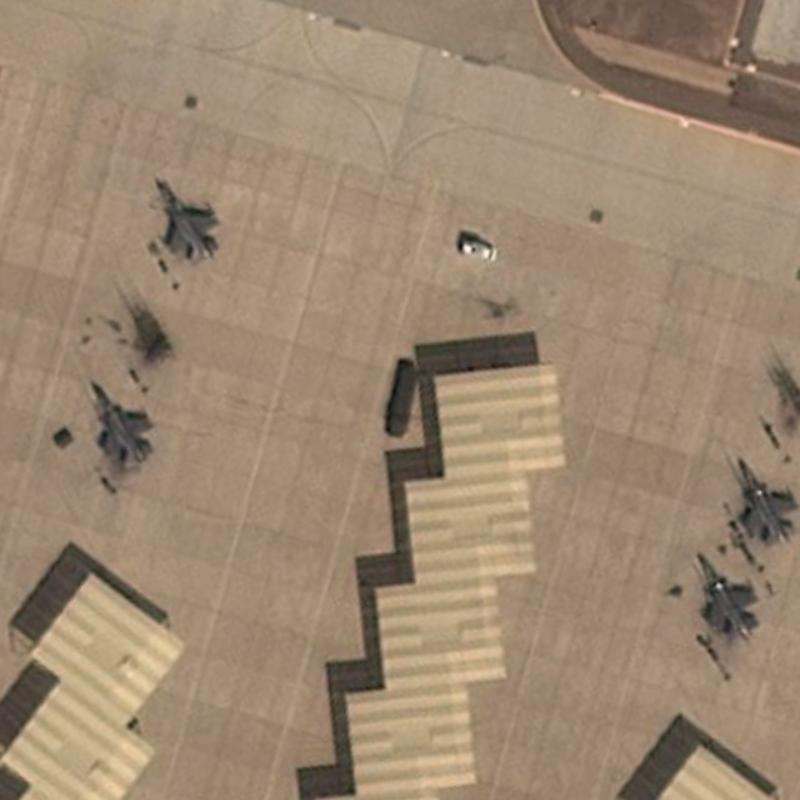A5: (694, 545, 763, 647), (149, 173, 223, 267), (732, 451, 799, 549), (87, 378, 157, 470)
